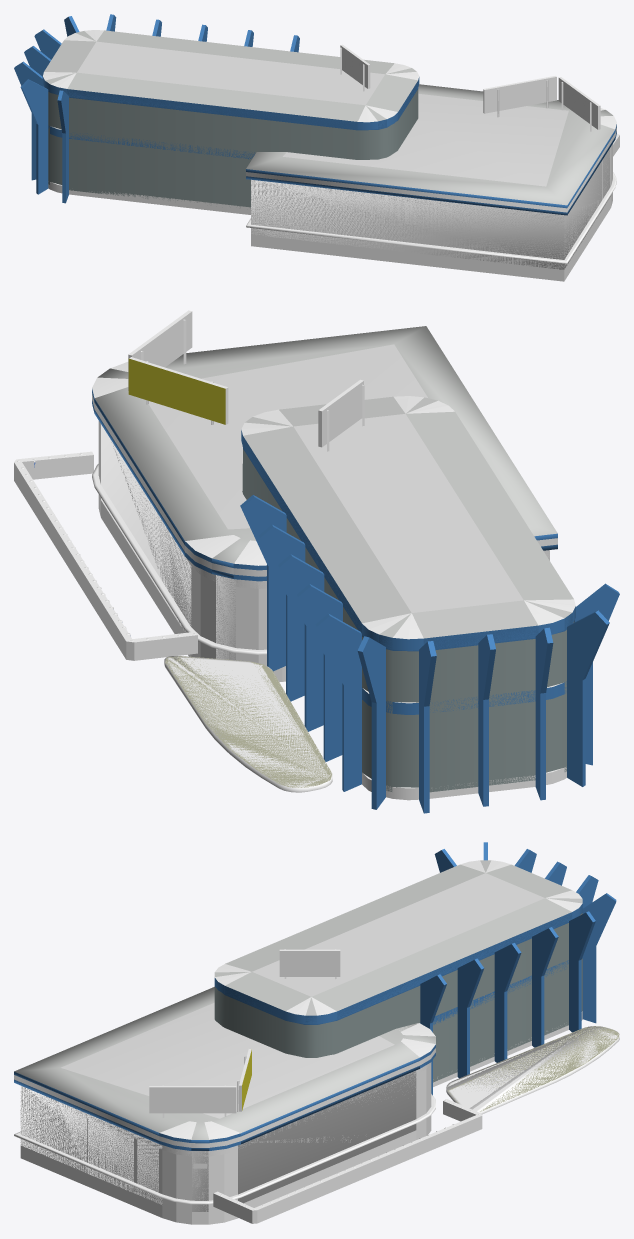
File: dealership_new.dae
The picture shows the model from 3 angles, top to bottom: view 1: azimuth 30°, elevation 25°; view 2: azimuth 150°, elevation 25°; view 3: azimuth 270°, elevation 25°; orthographic projection. The views are drawn at different scales.
Parts seen in each view (by area): view 1: dealership_new_a100, Colmesh-1, dealership_new_a250, dealership_new_a500; view 2: dealership_new_a100, dealership_new_a250, Colmesh-1, dealership_new_a500; view 3: dealership_new_a100, dealership_new_a250, Colmesh-1, dealership_new_a500.
Boxes of the visible parts, x1,y1,x2,y2 form: dealership_new_a100: (44,30,615,269); Colmesh-1: (251,133,619,281); dealership_new_a250: (14,14,616,263); dealership_new_a500: (340,44,617,134); dealership_new_a100: (94,326,574,792); dealership_new_a250: (92,311,619,813); Colmesh-1: (14,421,549,681); dealership_new_a500: (17,310,364,787); dealership_new_a100: (14,860,619,1211); dealership_new_a250: (14,842,619,1204); Colmesh-1: (20,1063,482,1224); dealership_new_a500: (149,949,619,1209).
Size of the model in its own units: 53.5 by 51.51 by 15.56.
